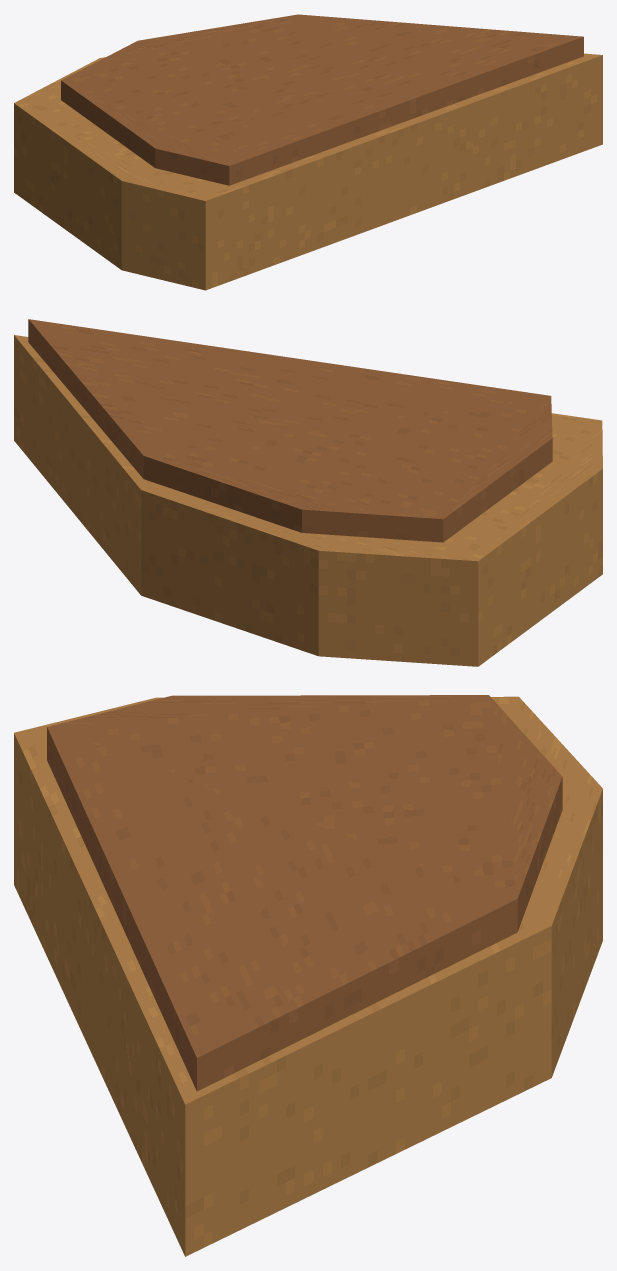
Rendered from pie_maple.glb.
3 views of the same model, one above another, from view 1: azimuth 30°, elevation 25°; view 2: azimuth 150°, elevation 25°; view 3: azimuth 270°, elevation 25° (orthographic). The views are drawn at different scales.
Parts seen in each view (by area): view 1: block_baked crust, block_exposed filling; view 2: block_baked crust, block_exposed filling; view 3: block_exposed filling, block_baked crust.
Part boxes in pixels (left/top/right/bottom): block_baked crust: left=14, top=53, right=602, bottom=290; block_exposed filling: left=61, top=14, right=583, bottom=185; block_baked crust: left=14, top=335, right=602, bottom=666; block_exposed filling: left=28, top=319, right=552, bottom=542; block_exposed filling: left=47, top=695, right=562, bottom=1091; block_baked crust: left=14, top=696, right=602, bottom=1256.
Size of the model in its own units: 0.0955 by 0.0203 by 0.0583.
1 material, 1 textured.
